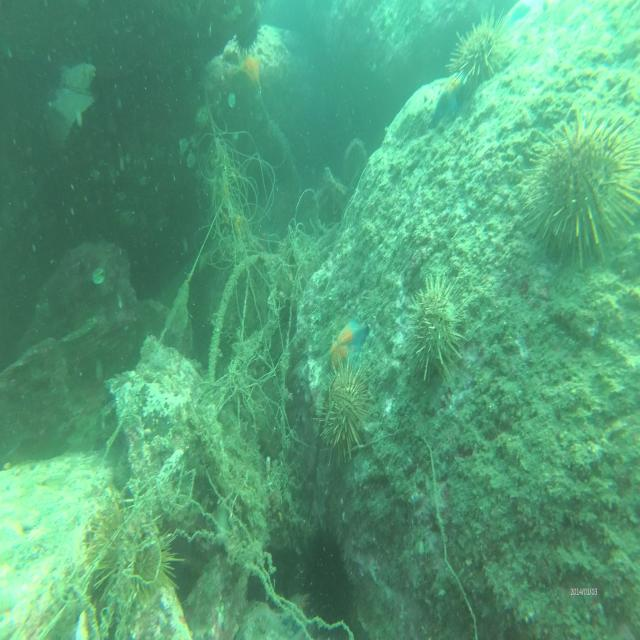echinus: (524, 118, 640, 260), (413, 276, 469, 376), (320, 382, 372, 467), (450, 16, 507, 91), (232, 4, 262, 51)
starfish: (326, 319, 369, 373), (432, 67, 468, 125), (237, 54, 264, 105), (507, 0, 534, 28)
